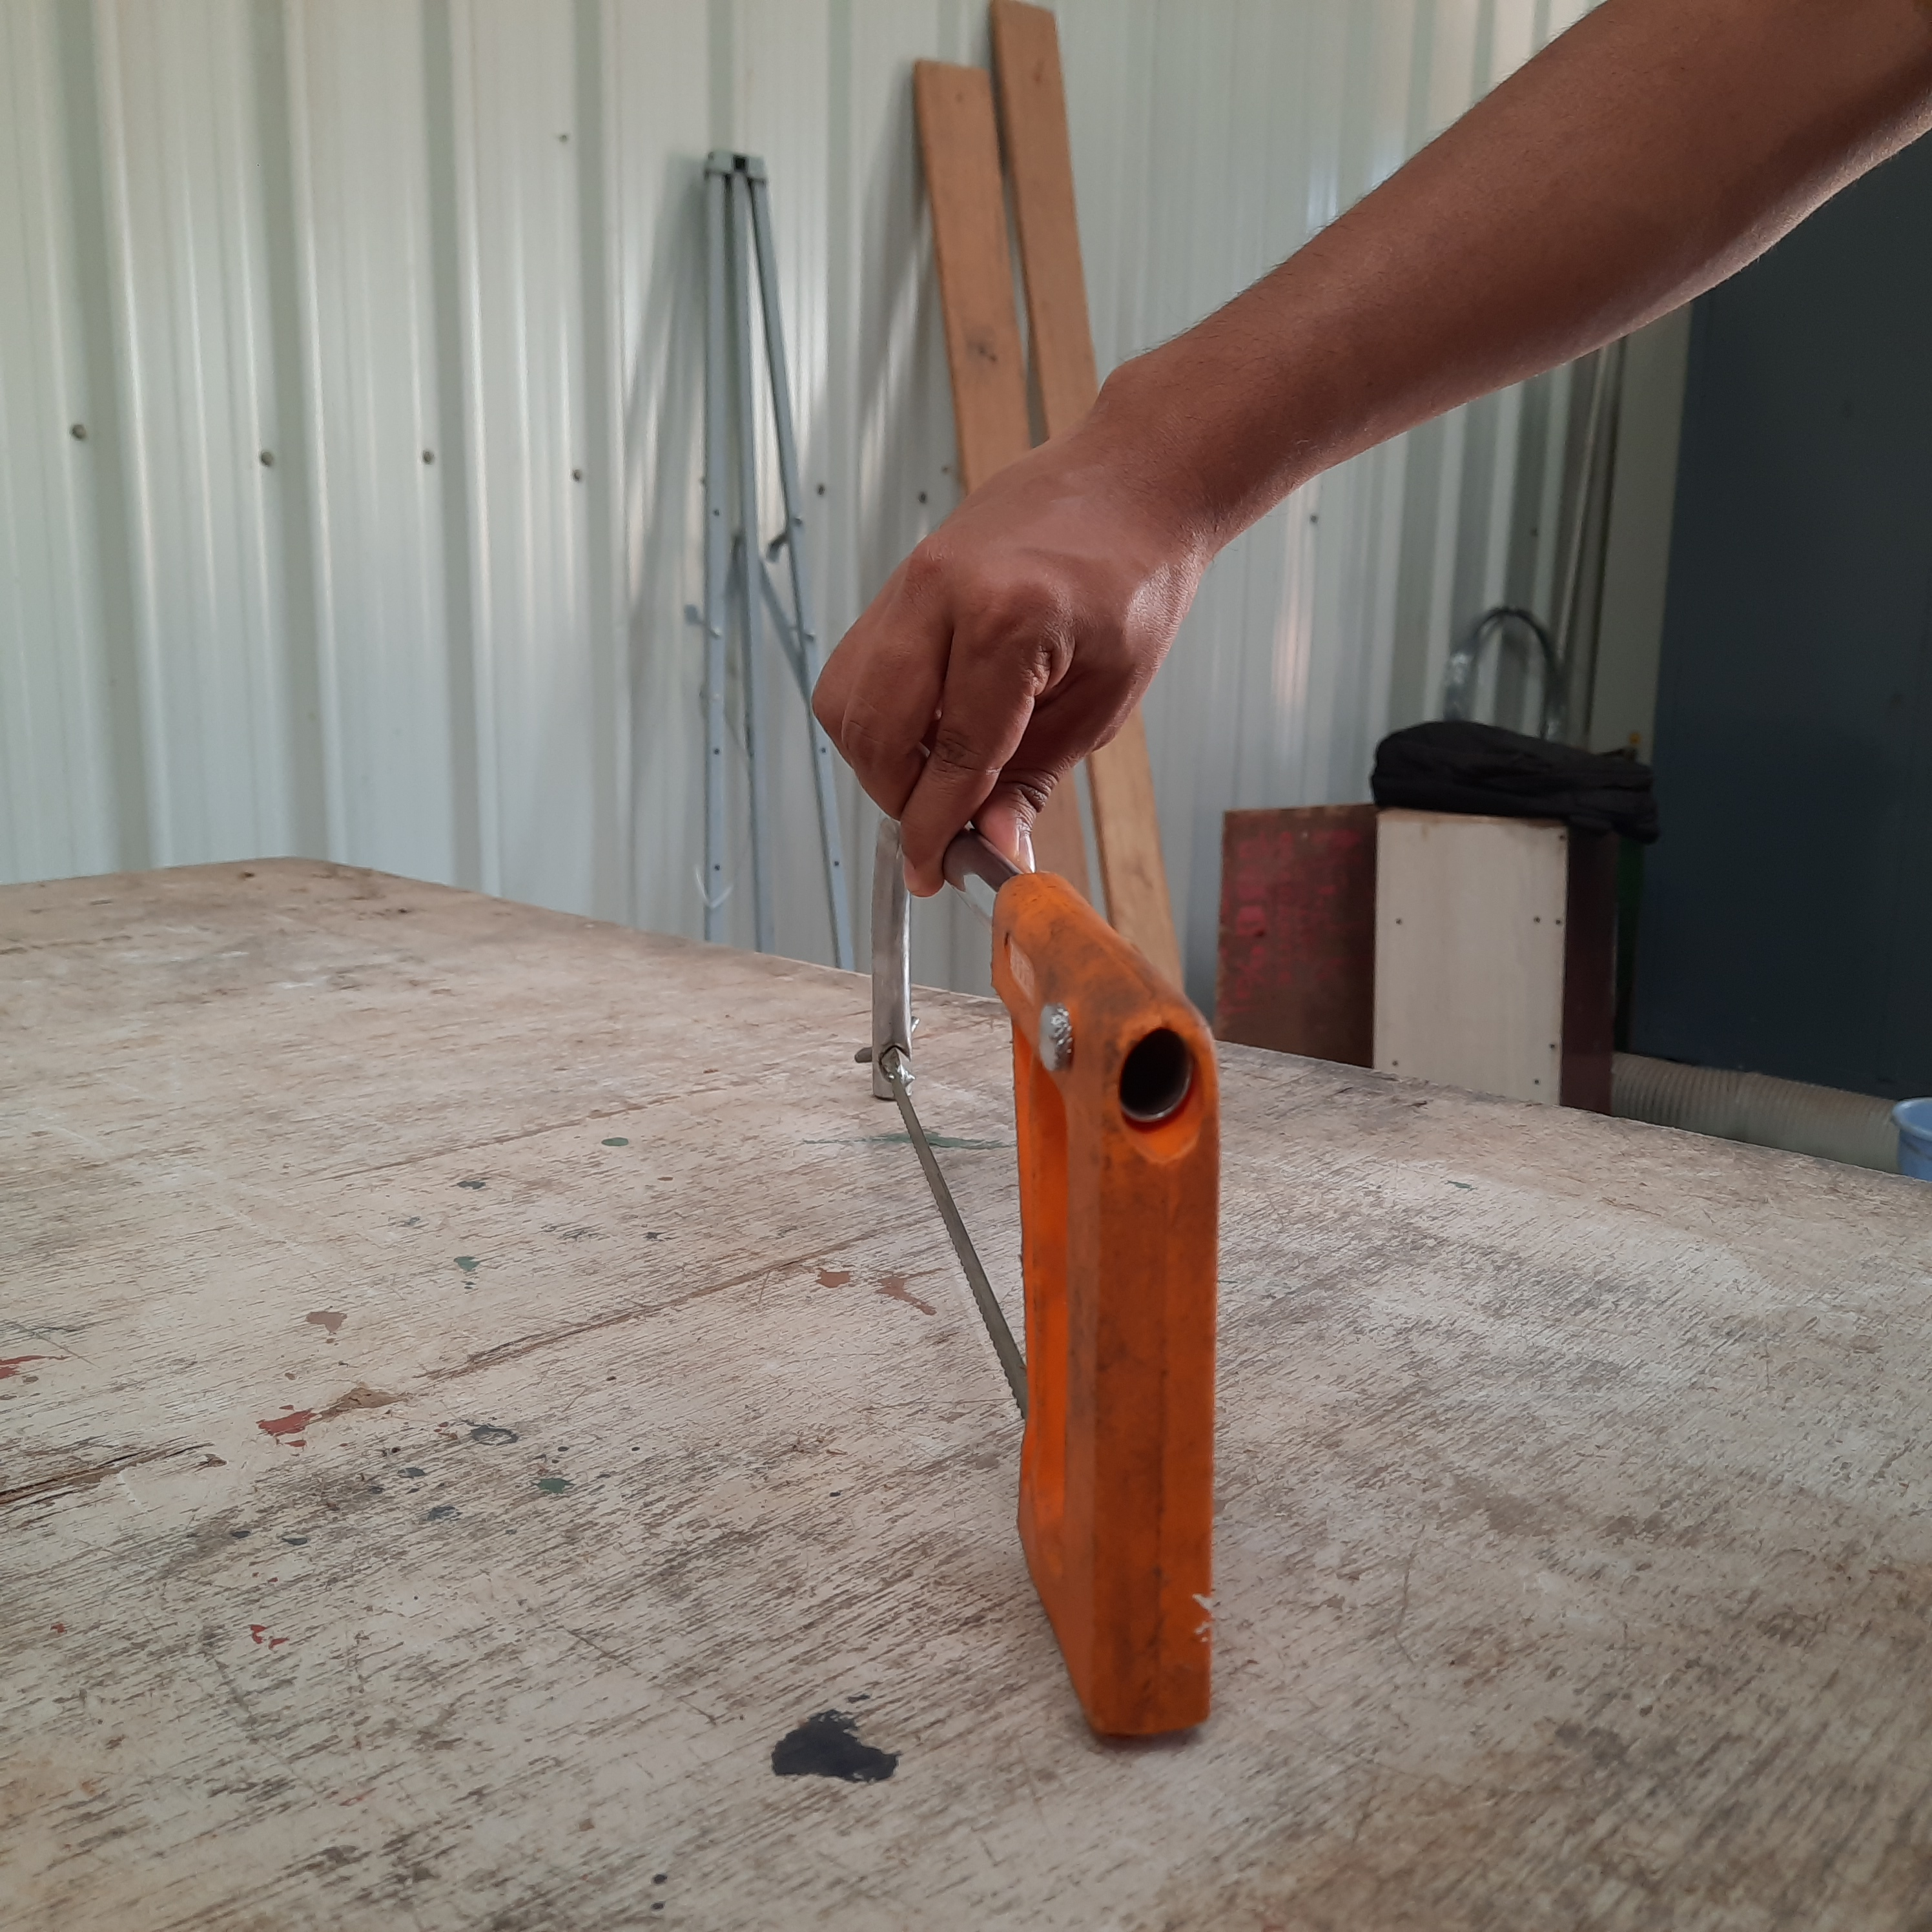Hexaframe: (816, 754, 1279, 1741)
